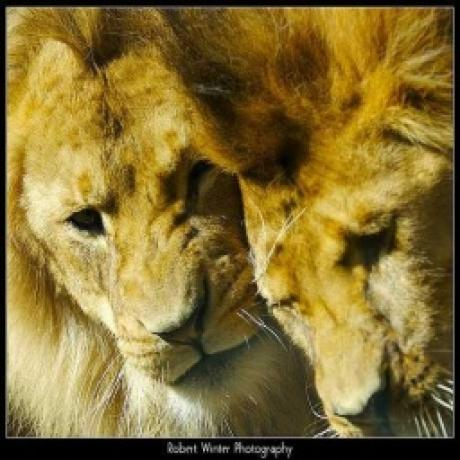Lion: (6, 5, 317, 441), (239, 6, 452, 440)
